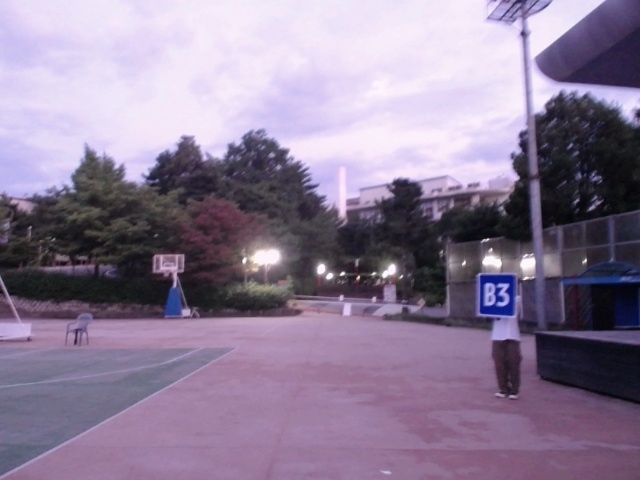delivery_b3: (478, 272, 518, 320)
